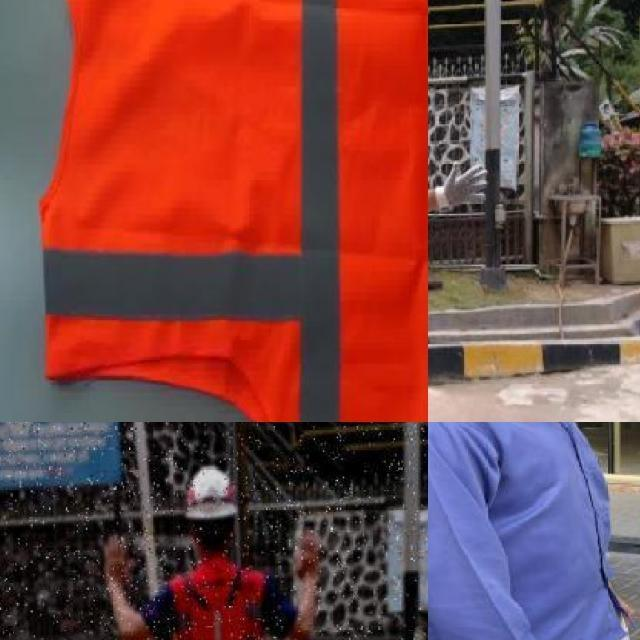apron: (434, 157, 491, 214)
